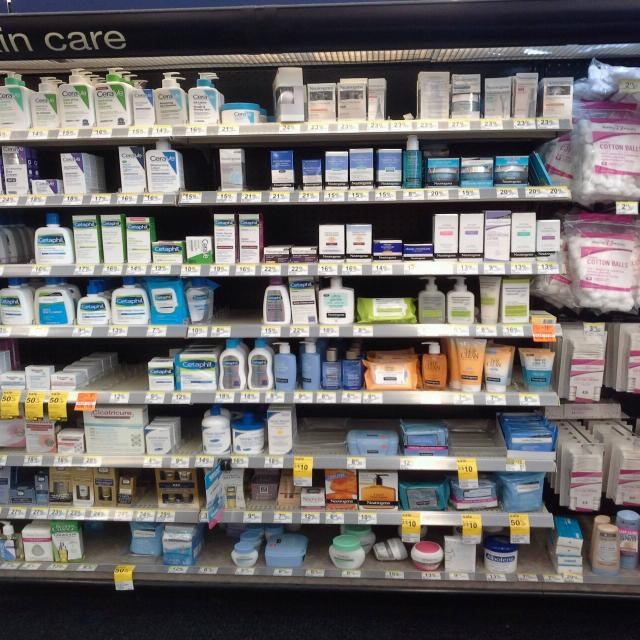empty: (290, 397, 346, 462), (79, 344, 149, 395), (449, 406, 505, 463), (212, 277, 264, 332), (80, 523, 127, 579), (177, 142, 218, 197), (386, 64, 419, 123), (170, 407, 201, 466), (247, 139, 271, 195), (519, 530, 548, 572), (305, 519, 328, 569)
